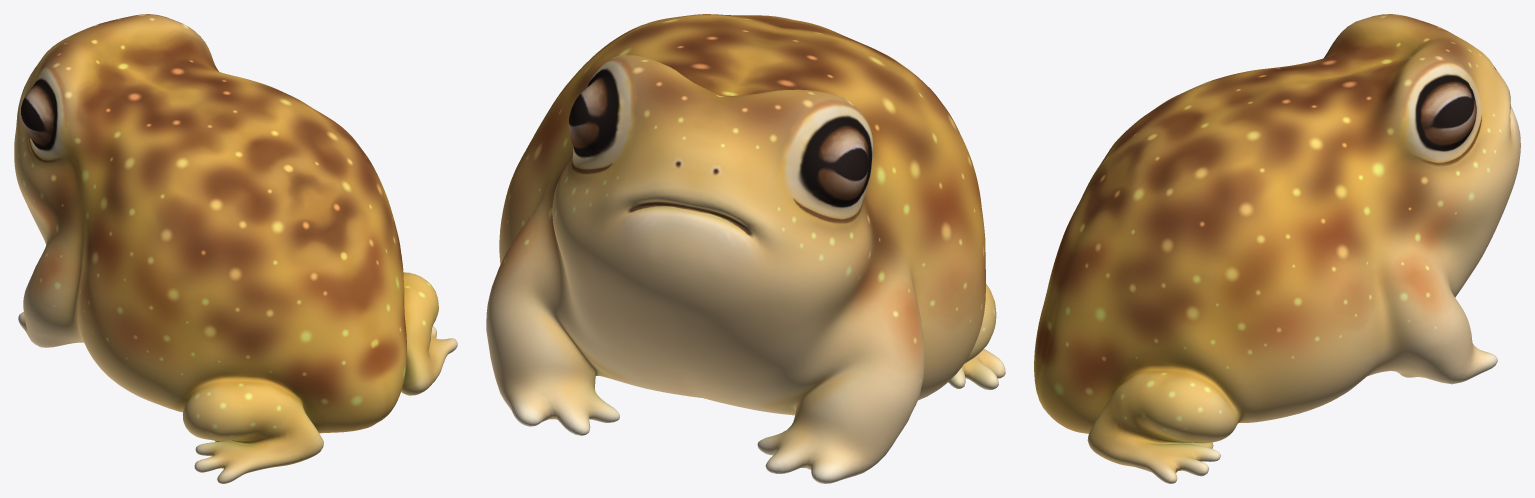
File: Frog2.glb
3 views of the same model, side by side, from view 1: azimuth 30°, elevation 25°; view 2: azimuth 150°, elevation 25°; view 3: azimuth 270°, elevation 25° (orthographic). The views are drawn at different scales.
Parts seen in each view (by area): view 1: CryoOrbFrog.002; view 2: CryoOrbFrog.002; view 3: CryoOrbFrog.002.
Part boxes in pixels (x1,y1,x2,y2): CryoOrbFrog.002: [14, 14, 457, 483]; CryoOrbFrog.002: [486, 14, 1005, 483]; CryoOrbFrog.002: [1034, 14, 1520, 483].
Size of the model in its own units: 0.2626 by 0.2332 by 0.286.
1 material, 1 textured.
